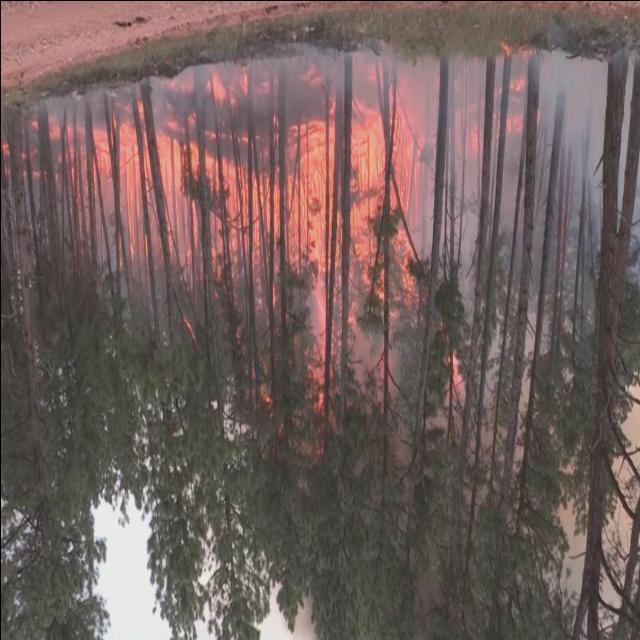Fire: (22, 101, 410, 322), (494, 38, 540, 148)
